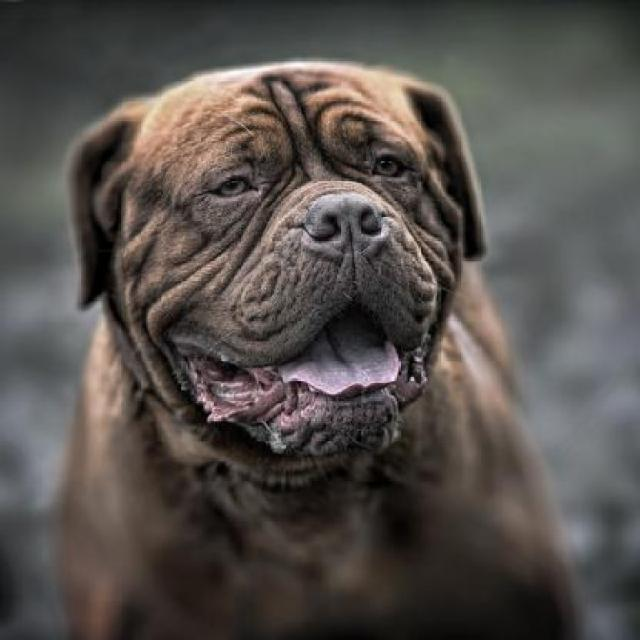animals: (48, 52, 566, 617)
